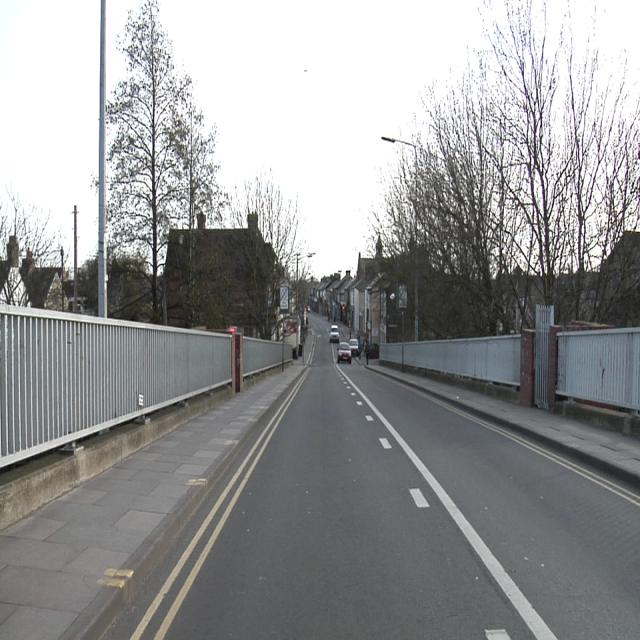Building: (309, 256, 381, 345)
Car: (338, 341, 351, 362), (329, 325, 339, 342)
Road: (109, 320, 640, 639)
Tree: (365, 2, 639, 337), (106, 2, 234, 320), (230, 172, 310, 282), (0, 181, 67, 306)
